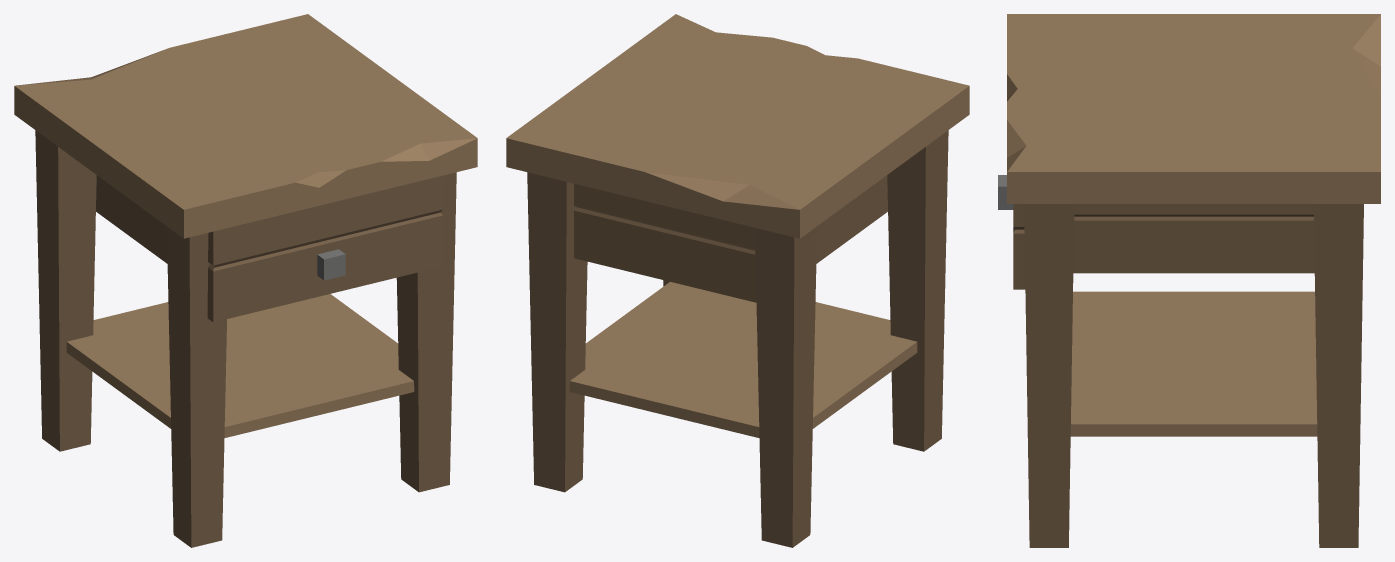
Rendered from SM_Prop_BedsideTable_01.fbx.
The picture shows the model from 3 angles, left to right: view 1: azimuth 30°, elevation 25°; view 2: azimuth 150°, elevation 25°; view 3: azimuth 270°, elevation 25°; orthographic projection. The views are drawn at different scales.
Visible parts, largest first — view 1: SM_Prop_BedsideTable_01, SM_Prop_BedsideTable_Drawer_01; view 2: SM_Prop_BedsideTable_01, SM_Prop_BedsideTable_Drawer_01; view 3: SM_Prop_BedsideTable_01, SM_Prop_BedsideTable_Drawer_01.
Part boxes in pixels (bbox=[...]): SM_Prop_BedsideTable_01: bbox=[14, 14, 477, 547]; SM_Prop_BedsideTable_Drawer_01: bbox=[96, 175, 442, 322]; SM_Prop_BedsideTable_01: bbox=[506, 14, 969, 547]; SM_Prop_BedsideTable_Drawer_01: bbox=[574, 175, 887, 302]; SM_Prop_BedsideTable_01: bbox=[1007, 14, 1380, 547]; SM_Prop_BedsideTable_Drawer_01: bbox=[998, 175, 1314, 289].
Size of the model in its own units: 39.77 by 45.25 by 40.74.
